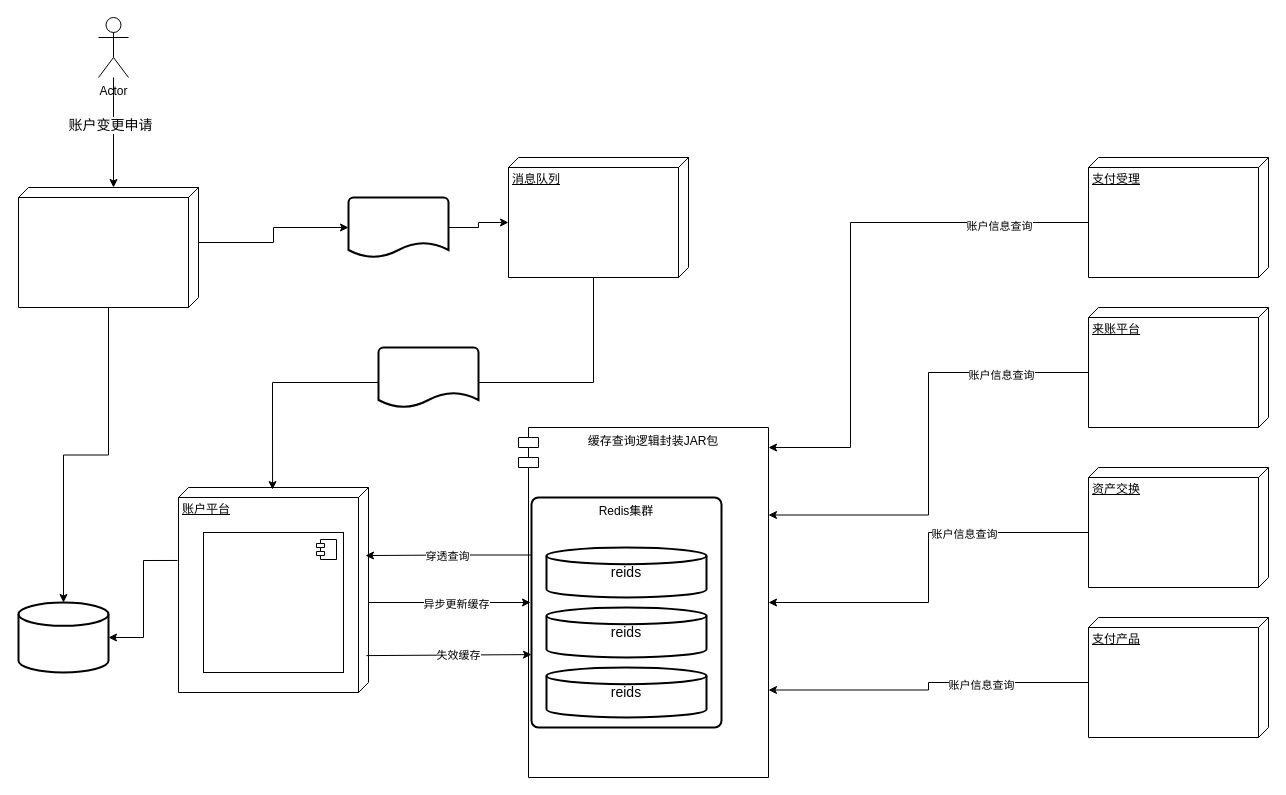
Some shapes in this 1286 by 795 pixel diagram are drawn without their labels. The centre of each missing label's shape, as x and y in pixels:
"发送账户变更消息" goes at (x=398, y=227).
"消费账户变更消息" goes at (x=428, y=377).
"热点key解决 key后面增加 [00-99]哈希打散key 针对热点账户失效缓存，需要便利全部哈希打散key进行失效" goes at (x=273, y=602).
"账户信息库" goes at (x=63, y=637).
"账户核心" goes at (x=108, y=247).
